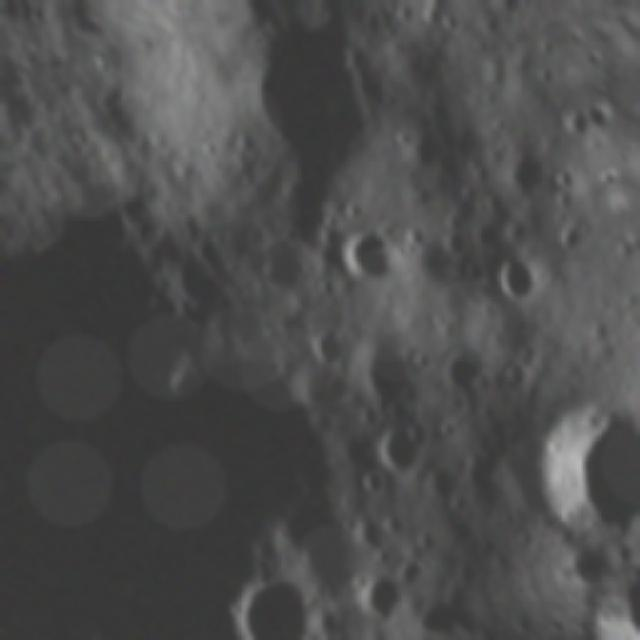crater: (507, 369, 640, 550), (212, 549, 337, 640), (339, 336, 424, 424), (326, 213, 406, 293), (485, 138, 560, 212), (428, 337, 498, 409), (368, 415, 435, 490), (248, 237, 315, 306), (342, 567, 409, 636), (488, 246, 548, 314), (295, 315, 351, 374), (561, 530, 624, 572), (405, 590, 472, 628), (432, 221, 479, 268), (466, 212, 509, 257), (552, 103, 594, 148), (354, 463, 392, 505), (0, 117, 20, 163), (294, 623, 334, 640)
